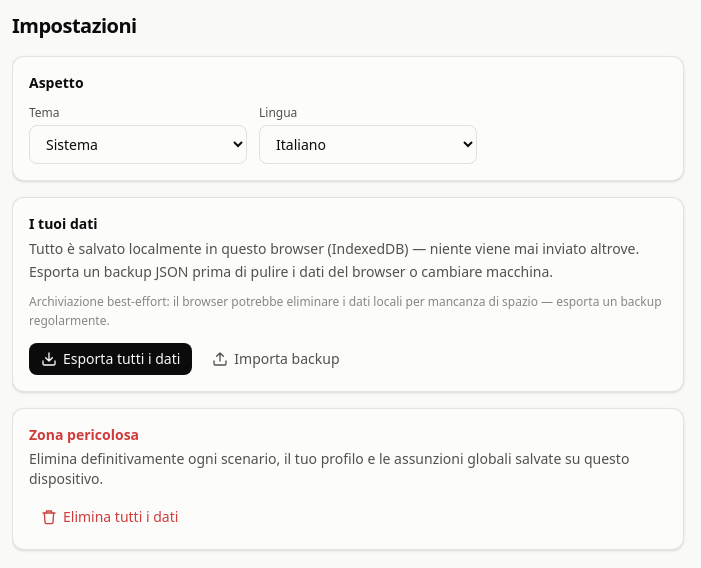
locale switching (Settings → language selector) › renders Italian copy when the preference is stored, and switches back live
Expected: the heading "Impostazioni" is shown, [12,12,137,39]
Select "English" in the dropdown labelled "Lingua": x=368, y=144 [259,125,477,164]
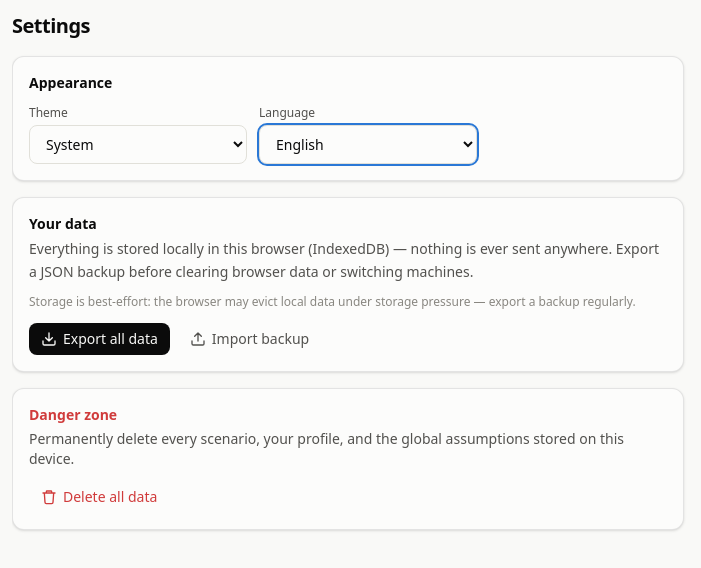
Expected: the heading "Settings" is shown, [12,12,90,39]
